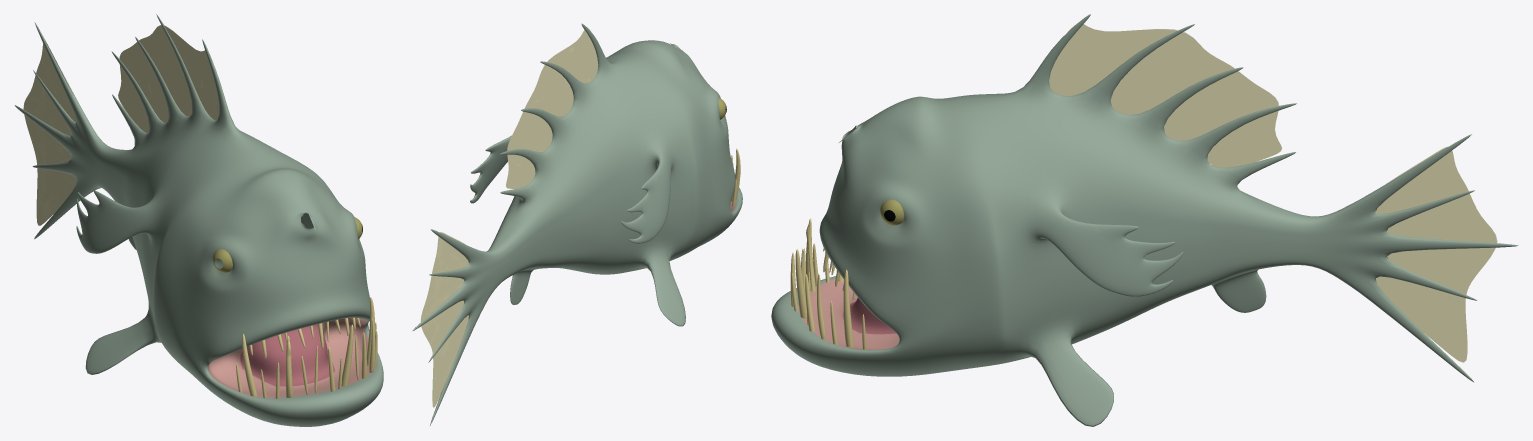
File: RYIBA (1).fbx
The picture shows the model from 3 angles, left to right: view 1: azimuth 30°, elevation 25°; view 2: azimuth 150°, elevation 25°; view 3: azimuth 270°, elevation 25°; orthographic projection. The views are drawn at different scales.
Parts seen in each view (by area): view 1: Body, Webbing.001, Webbing, Teeth_Bottom, Teeth_Top; view 2: Body, Webbing.001, Webbing; view 3: Body, Webbing, Teeth_Bottom.
Boxes of the visible parts, <box> form: Body: <box>14,14,383,426</box>; Webbing.001: <box>23,25,219,225</box>; Webbing: <box>23,25,218,225</box>; Teeth_Bottom: <box>236,297,377,398</box>; Teeth_Top: <box>249,317,360,358</box>; Body: <box>412,23,742,425</box>; Webbing.001: <box>420,28,598,407</box>; Webbing: <box>421,30,597,406</box>; Body: <box>771,14,1518,426</box>; Webbing: <box>1049,24,1496,361</box>; Teeth_Bottom: <box>790,218,866,349</box>.
Size of the model in its own units: 851 by 1160 by 2130.
